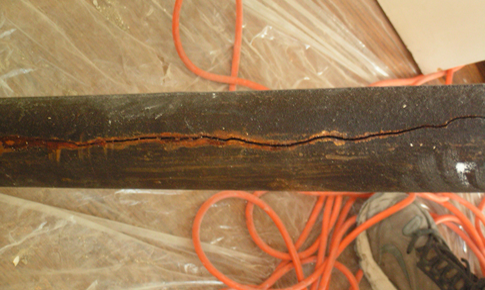crack: (5, 111, 481, 156)
